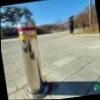Animal: (13, 18, 47, 99)
